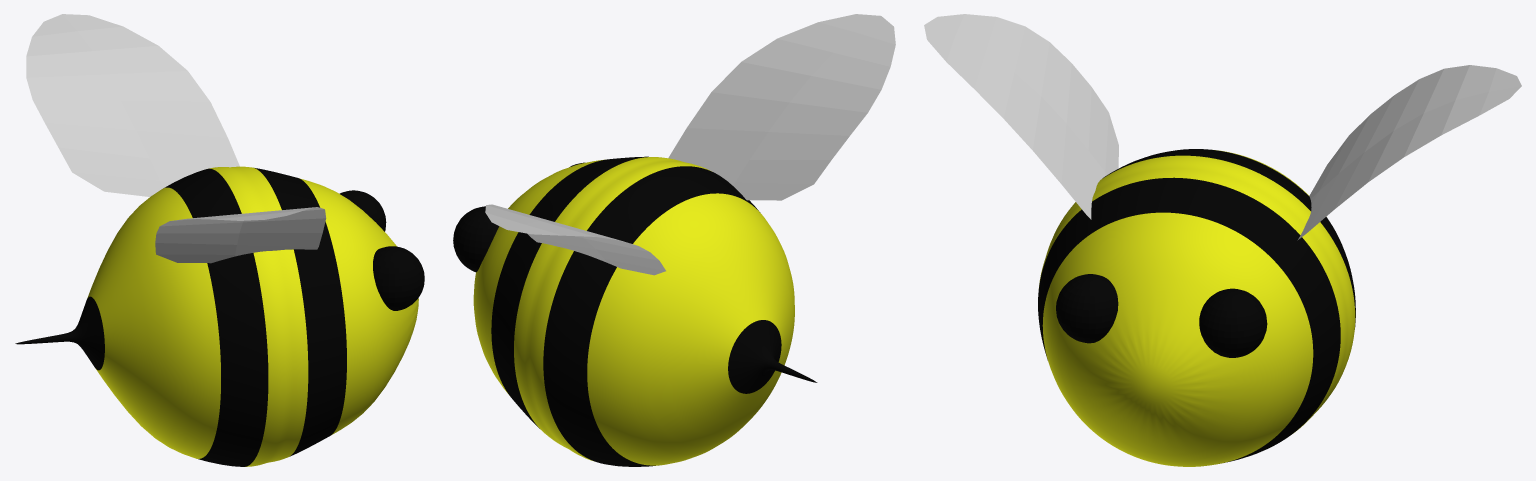
Rendered from bee2.fbx.
The picture shows the model from 3 angles, left to right: view 1: azimuth 30°, elevation 25°; view 2: azimuth 150°, elevation 25°; view 3: azimuth 270°, elevation 25°; orthographic projection. The views are drawn at different scales.
Parts seen in each view (by area): view 1: Cylinder, Plane.003, Plane, Sphere; view 2: Cylinder, Plane, Plane.003, Sphere; view 3: Cylinder, Plane, Plane.003, Sphere.
Boxes of the visible parts, left/top/right/bottom form: Cylinder: left=15, top=166, right=418, bottom=466; Plane.003: left=26, top=14, right=239, bottom=196; Plane: left=155, top=207, right=326, bottom=263; Sphere: left=339, top=190, right=424, bottom=310; Cylinder: left=473, top=156, right=817, bottom=466; Plane: left=668, top=14, right=895, bottom=200; Plane.003: left=485, top=204, right=665, bottom=275; Sphere: left=453, top=162, right=584, bottom=272; Cylinder: left=1038, top=149, right=1355, bottom=466; Plane: left=924, top=14, right=1118, bottom=219; Plane.003: left=1297, top=65, right=1521, bottom=240; Sphere: left=1056, top=274, right=1267, bottom=357.
Bounding box in the file's own units: 70.71 × 66.65 × 96.5.
